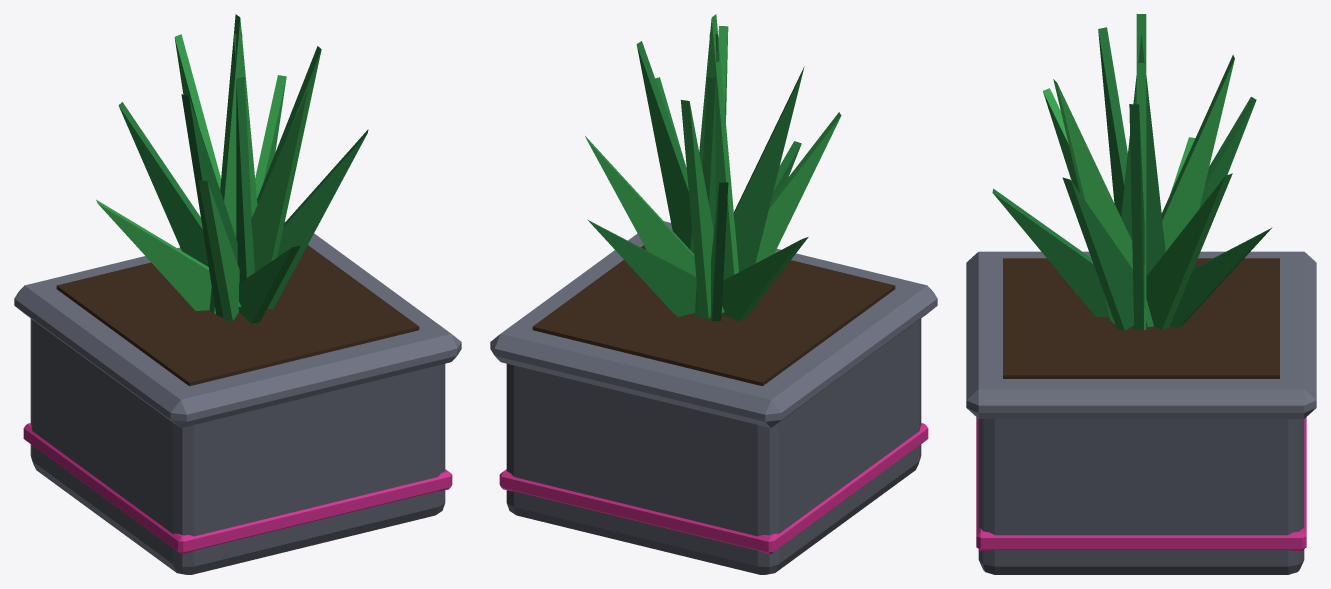
Rendered from neon-prop2.glb.
The picture shows the model from 3 angles, left to right: view 1: azimuth 30°, elevation 25°; view 2: azimuth 150°, elevation 25°; view 3: azimuth 270°, elevation 25°; orthographic projection. The views are drawn at different scales.
Parts seen in each view (by area): view 1: neon-prop2; view 2: neon-prop2; view 3: neon-prop2.
Part boxes in pixels (x1,y1,x2,y2): neon-prop2: (14,14,461,574); neon-prop2: (490,14,937,574); neon-prop2: (966,14,1316,574).
Bounding box in the file's own units: 0.86 × 1.35 × 0.86.
